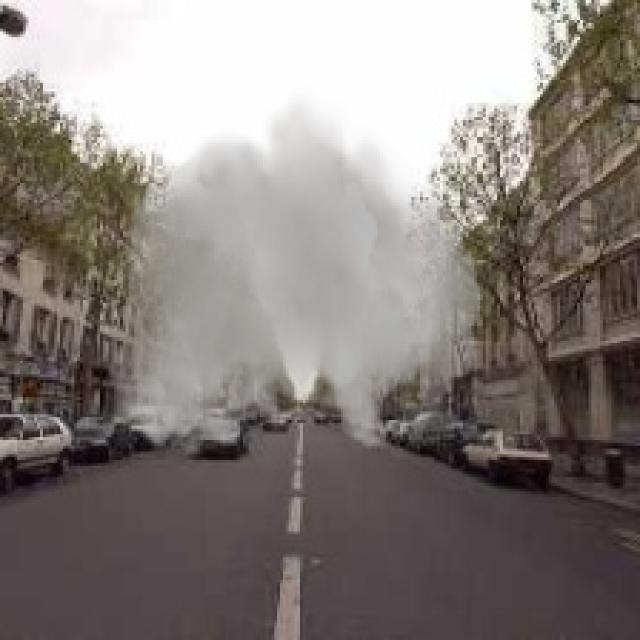smoke: (109, 86, 480, 460)
